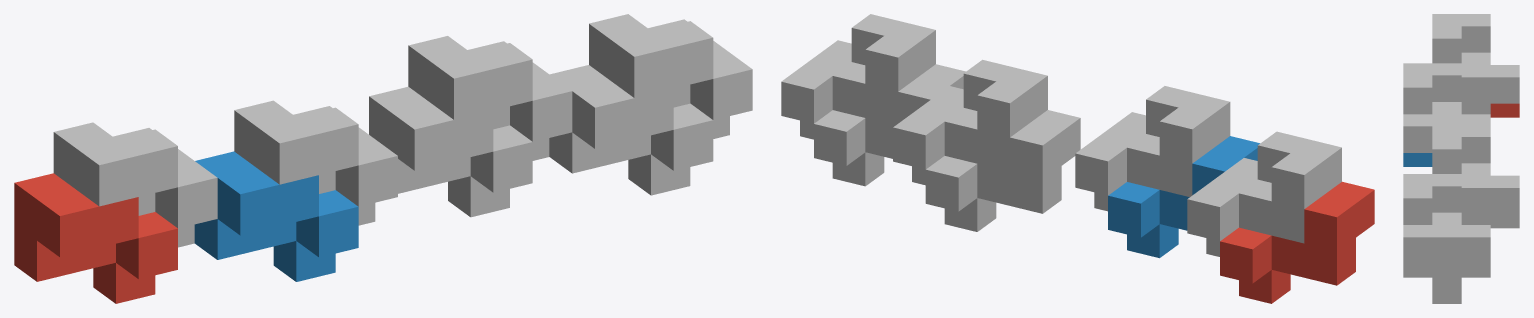
File: tiling.obj
3 renders of one model, left to right at view 1: azimuth 30°, elevation 25°; view 2: azimuth 150°, elevation 25°; view 3: azimuth 270°, elevation 25°, orthographic. The views are drawn at different scales.
Parts seen in each view (by area): view 1: copy_1_domain_1, copy_1_domain_2, copy_1_domain_6, copy_1_domain_5, copy_1_domain_7, copy_1_domain_3, copy_1_domain_4, copy_1_domain_8; view 2: copy_1_domain_4, copy_1_domain_8, copy_1_domain_3, copy_1_domain_7, copy_1_domain_5, copy_1_domain_1, copy_1_domain_2, copy_1_domain_6; view 3: copy_1_domain_8, copy_1_domain_7, copy_1_domain_3, copy_1_domain_4, copy_1_domain_6, copy_1_domain_1, copy_1_domain_5, copy_1_domain_2.
Boxes of the visible parts, x1,y1,x2,y2 form: copy_1_domain_1: (14, 173, 177, 303); copy_1_domain_2: (194, 151, 358, 281); copy_1_domain_6: (549, 65, 713, 195); copy_1_domain_5: (369, 86, 532, 217); copy_1_domain_7: (408, 36, 572, 160); copy_1_domain_3: (53, 122, 217, 247); copy_1_domain_4: (234, 100, 397, 225); copy_1_domain_8: (589, 14, 752, 138); copy_1_domain_4: (1075, 86, 1230, 211); copy_1_domain_8: (781, 14, 935, 139); copy_1_domain_3: (1187, 131, 1341, 256); copy_1_domain_7: (893, 59, 1047, 185); copy_1_domain_5: (925, 110, 1080, 231); copy_1_domain_1: (1220, 181, 1374, 303); copy_1_domain_2: (1108, 136, 1259, 258); copy_1_domain_6: (814, 64, 965, 186); copy_1_domain_8: (1403, 174, 1490, 289); copy_1_domain_7: (1432, 124, 1519, 224); copy_1_domain_3: (1432, 14, 1519, 114); copy_1_domain_4: (1403, 63, 1490, 152); copy_1_domain_6: (1403, 263, 1490, 303); copy_1_domain_1: (1490, 103, 1519, 117); copy_1_domain_5: (1490, 214, 1519, 228); copy_1_domain_2: (1403, 153, 1432, 166).
Size of the model in its own units: 17 by 4 by 4.
